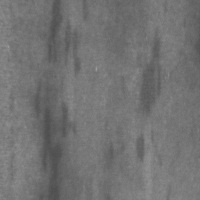inclusion: (37, 0, 84, 194), (134, 18, 168, 123), (129, 126, 151, 168)
